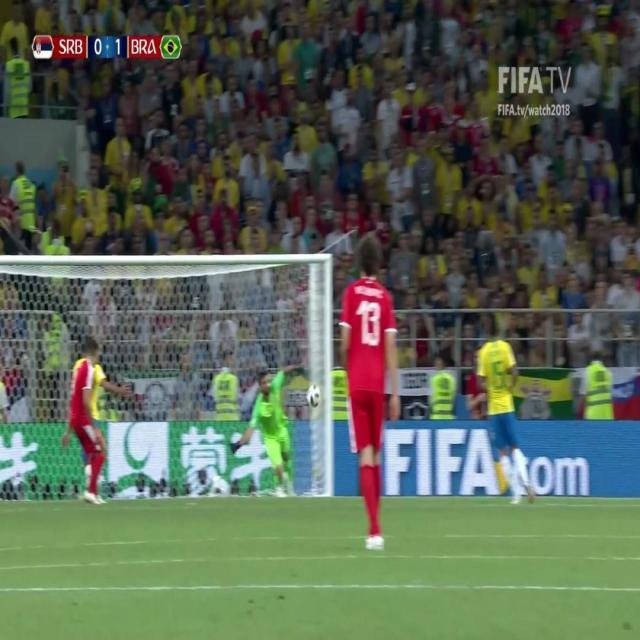ball: (305, 376, 322, 414)
goalkeeper: (228, 353, 305, 497)
player: (331, 234, 406, 555), (476, 324, 530, 503), (59, 336, 111, 510)
